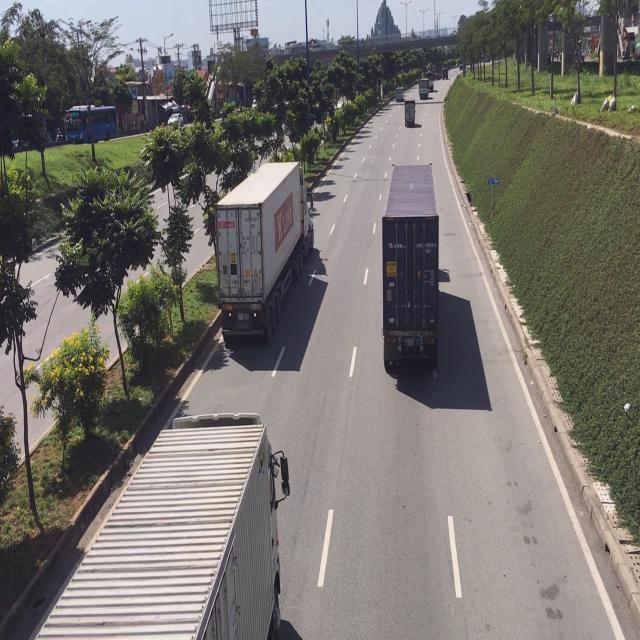truck: (40, 416, 282, 640), (220, 164, 316, 346), (378, 162, 439, 374)
